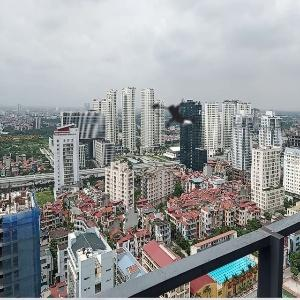drone: (129, 71, 226, 168)
